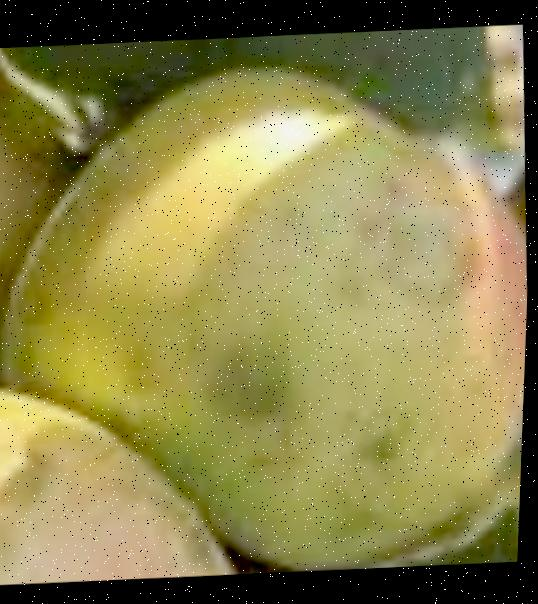BLOTCH: (0, 44, 536, 564)
